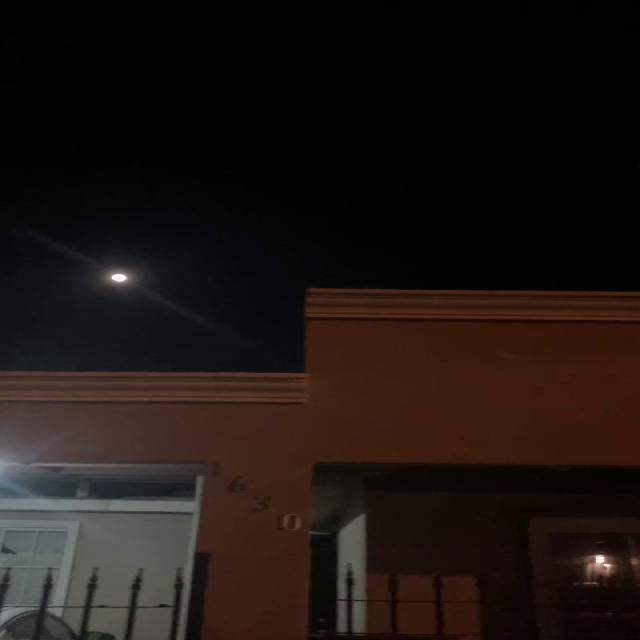moon: (95, 261, 145, 294)
